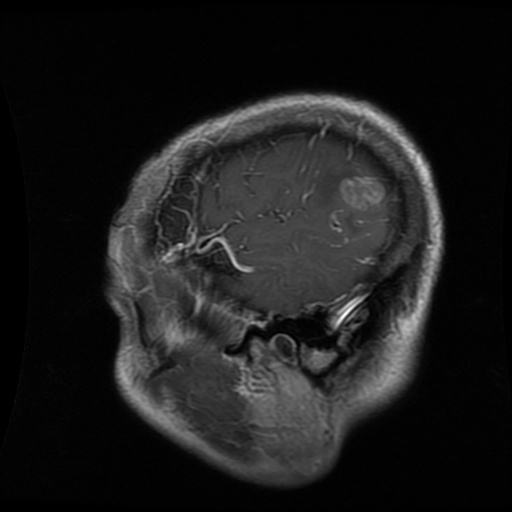glioma: (339, 176, 384, 209)
